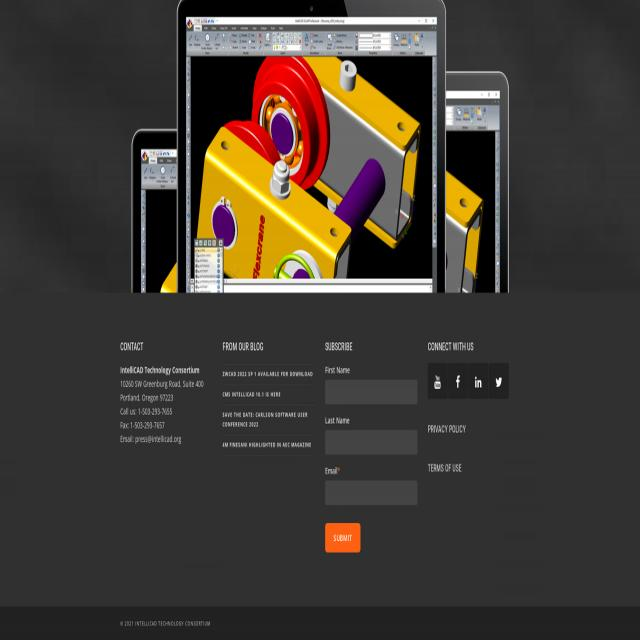button: (325, 523, 361, 552), (468, 362, 489, 400), (428, 362, 448, 400), (448, 362, 468, 400), (489, 362, 509, 400)
field: (325, 480, 417, 505), (325, 380, 417, 404), (325, 430, 417, 454)
